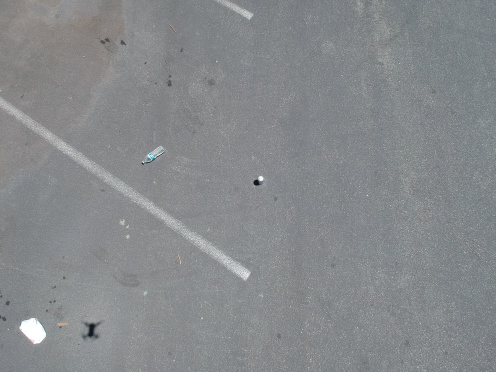bottle: (134, 140, 167, 167)
can: (255, 174, 266, 187)
plastic bag: (12, 313, 52, 350)
